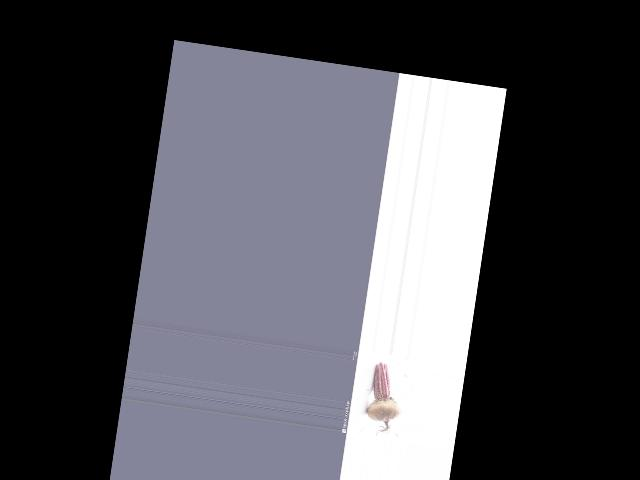beet: (363, 361, 406, 438)
